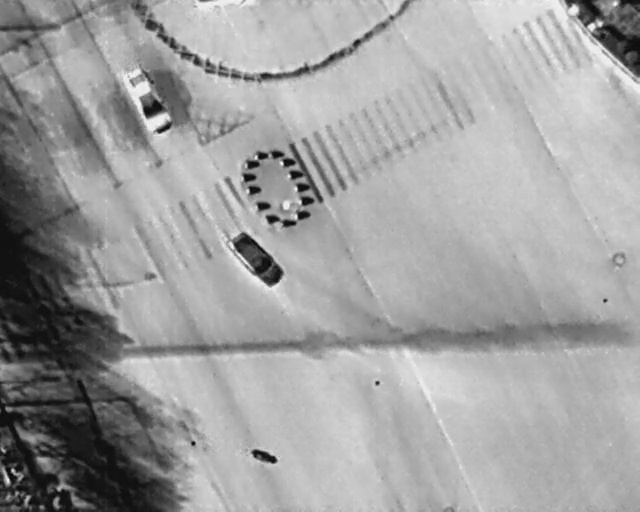Car: (116, 63, 176, 139), (223, 226, 289, 293)
